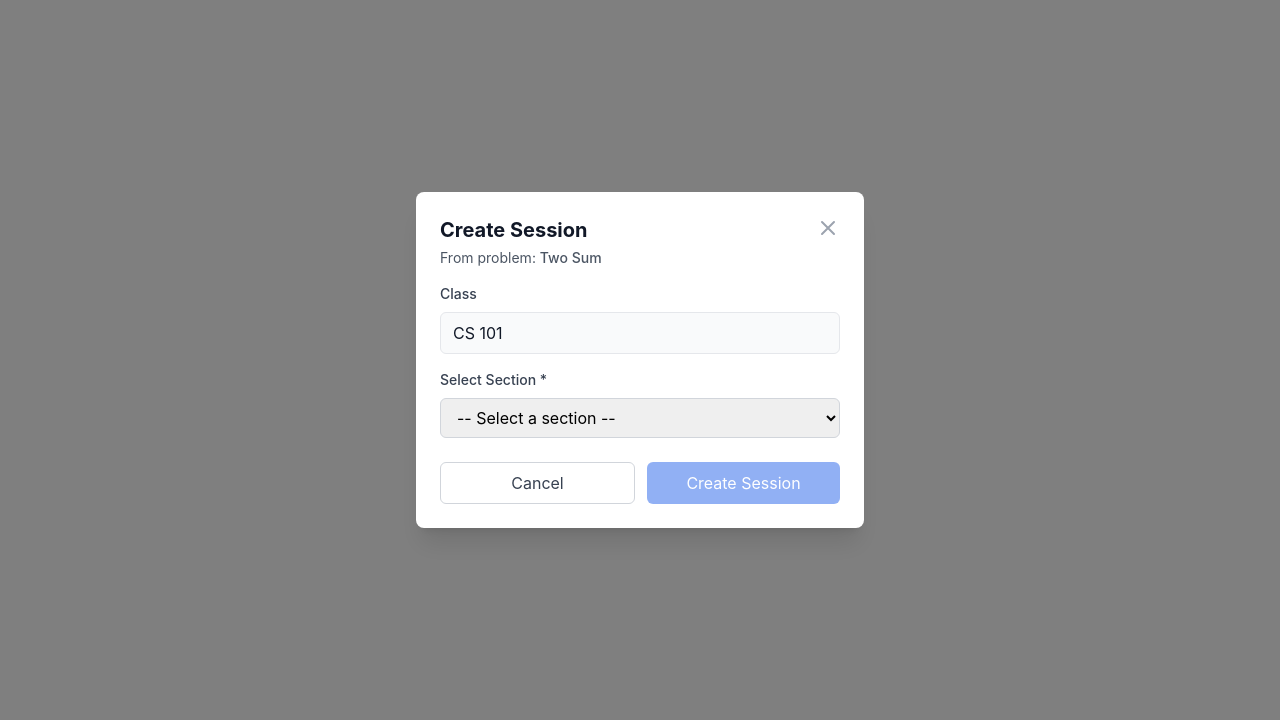
Test case: CreateSessionFromProblemModal › publish UX › shows publish info box when section is not yet published
Select "Section A" in the dropdown at (640, 418), box x1=440 y1=398 x2=840 y2=438
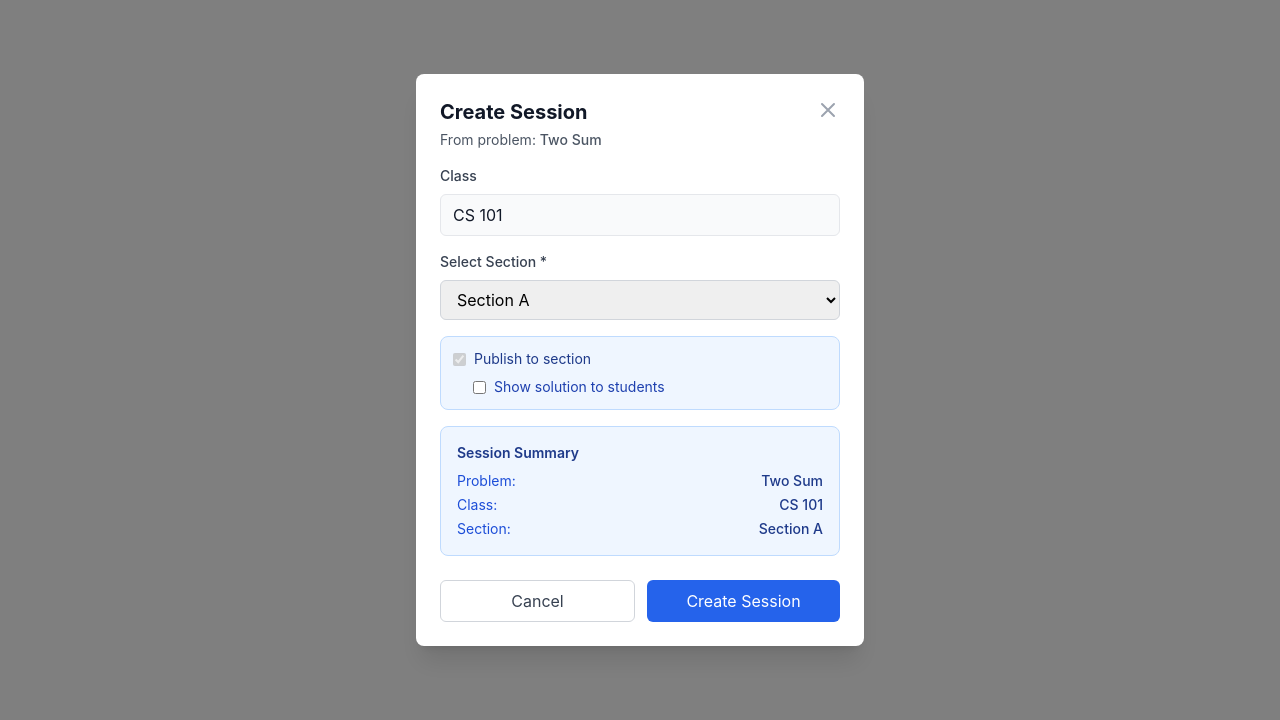
Expected: the text "Publish to section" is shown, x1=474 y1=349 x2=591 y2=369
